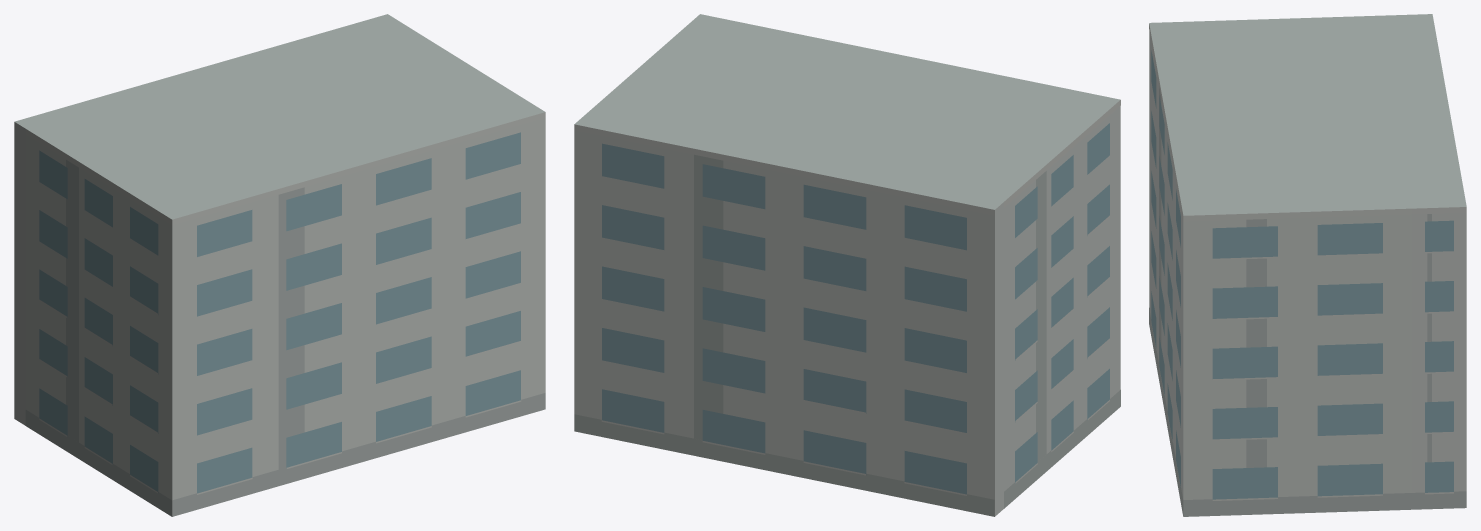
Rendered from survey-upis-32823481.glb.
3 renders of one model, left to right at view 1: azimuth 30°, elevation 25°; view 2: azimuth 150°, elevation 25°; view 3: azimuth 270°, elevation 25°, orthographic. The views are drawn at different scales.
Visible parts, largest first — view 1: survey-upis-32823481.tmp; view 2: survey-upis-32823481.tmp; view 3: survey-upis-32823481.tmp.
Part boxes in pixels (bbox=[...]): survey-upis-32823481.tmp: bbox=[14, 14, 545, 516]; survey-upis-32823481.tmp: bbox=[574, 14, 1120, 516]; survey-upis-32823481.tmp: bbox=[1149, 14, 1466, 516].
Size of the model in its own units: 17.98 by 12.5 by 11.96.
